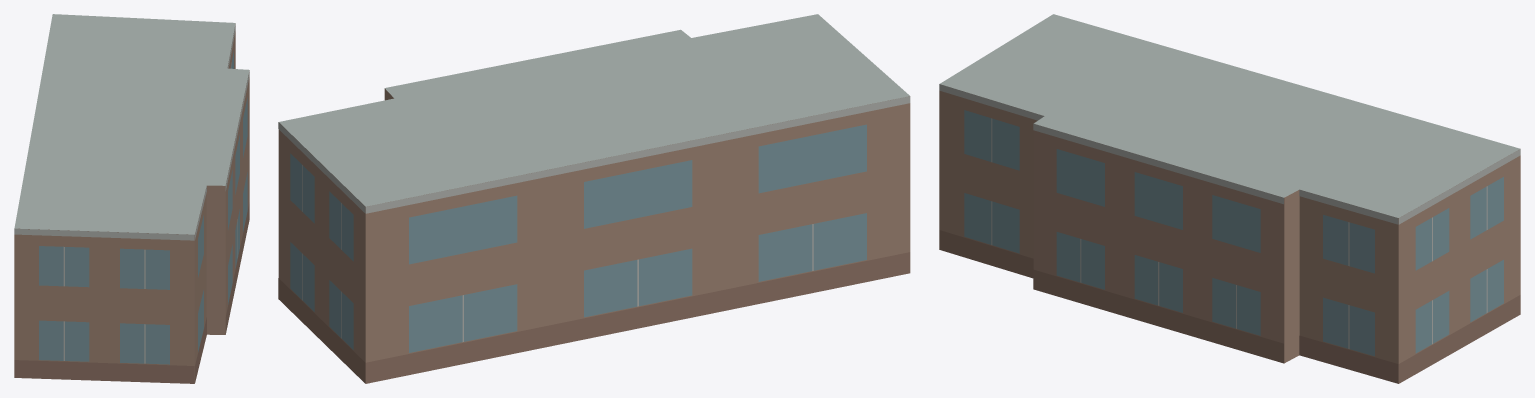
Rendered from survey-upis-32609181.glb.
The picture shows the model from 3 angles, left to right: view 1: azimuth 30°, elevation 25°; view 2: azimuth 150°, elevation 25°; view 3: azimuth 270°, elevation 25°; orthographic projection. The views are drawn at different scales.
Parts seen in each view (by area): view 1: survey-upis-32609181.tmp; view 2: survey-upis-32609181.tmp; view 3: survey-upis-32609181.tmp.
Part boxes in pixels (<box>): survey-upis-32609181.tmp: <box>14,14,249,383</box>; survey-upis-32609181.tmp: <box>278,14,910,383</box>; survey-upis-32609181.tmp: <box>939,14,1520,383</box>.
Size of the model in its own units: 16.12 by 6.1 by 19.4.
